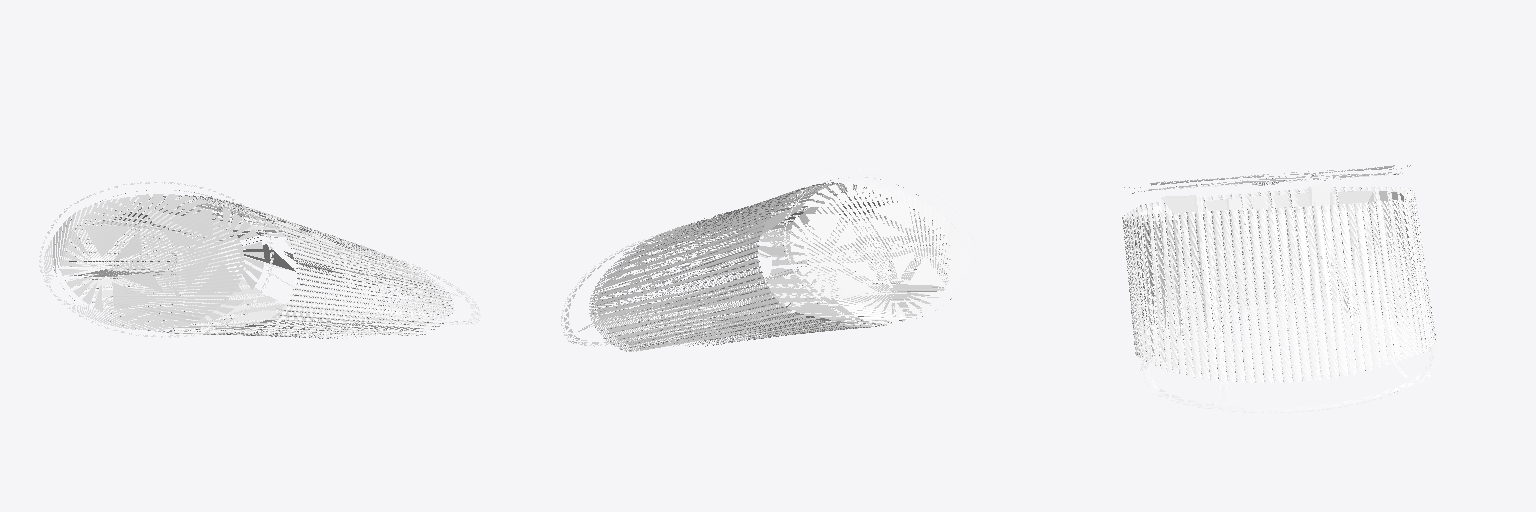
Rendered from bottle_cap_tall.003.obj.
3 renders of one model, left to right at view 1: azimuth 30°, elevation 25°; view 2: azimuth 150°, elevation 25°; view 3: azimuth 270°, elevation 25°, orthographic.
Visible parts, largest first — view 1: bottle_cap_tall.003; view 2: bottle_cap_tall.003; view 3: bottle_cap_tall.003.
Boxes of the visible parts, <box> form: bottle_cap_tall.003: <box>39,182,480,338</box>; bottle_cap_tall.003: <box>561,168,978,351</box>; bottle_cap_tall.003: <box>1122,165,1438,412</box>.
Bounding box in the file's own units: 0.0456 × 0.0157 × 0.0337.